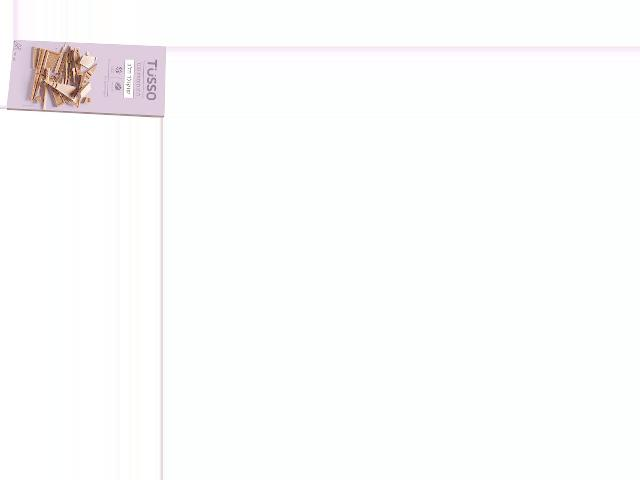chocolate: (6, 44, 162, 113)
